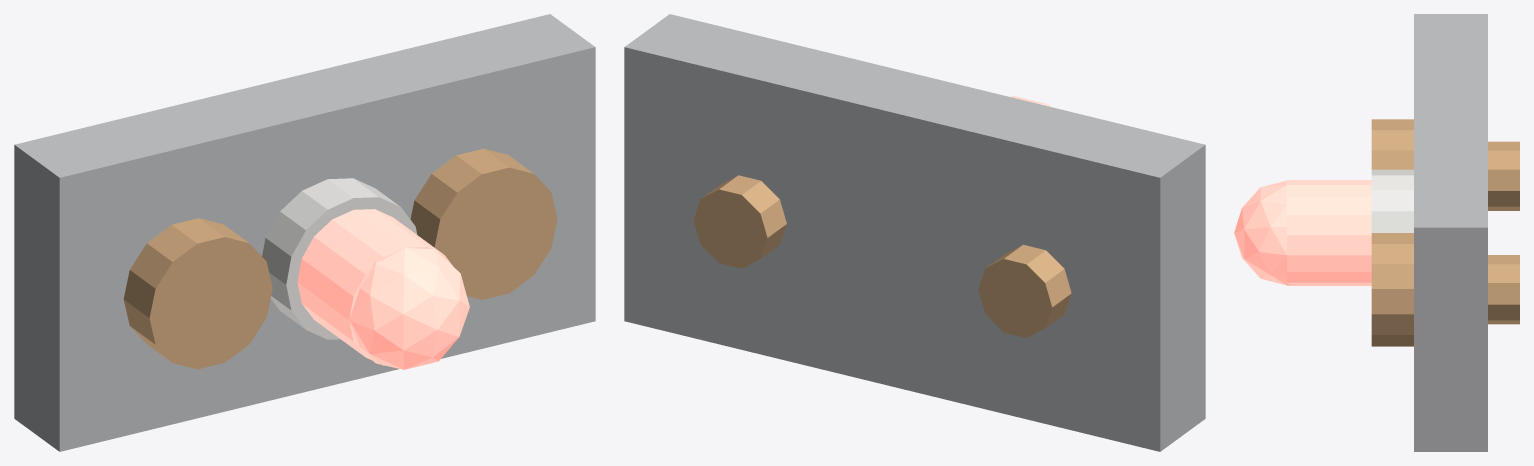
The model's file is snap_led_red.glb.
3 renders of one model, left to right at view 1: azimuth 30°, elevation 25°; view 2: azimuth 150°, elevation 25°; view 3: azimuth 270°, elevation 25°, orthographic. The views are drawn at different scales.
Visible parts, largest first — view 1: plastic_gray, copper, led_red, white_plastic; view 2: plastic_gray, copper; view 3: plastic_gray, led_red, copper, white_plastic.
Part boxes in pixels (x1,y1,x2,y2): plastic_gray: [14, 14, 595, 451]; copper: [123, 148, 557, 369]; led_red: [297, 209, 469, 369]; white_plastic: [262, 178, 417, 339]; plastic_gray: [624, 14, 1205, 451]; copper: [693, 175, 1071, 337]; plastic_gray: [1414, 14, 1487, 451]; led_red: [1234, 180, 1371, 285]; copper: [1371, 119, 1519, 346]; white_plastic: [1371, 169, 1413, 232].
Size of the model in its own units: 0.0478 by 0.0234 by 0.027.
